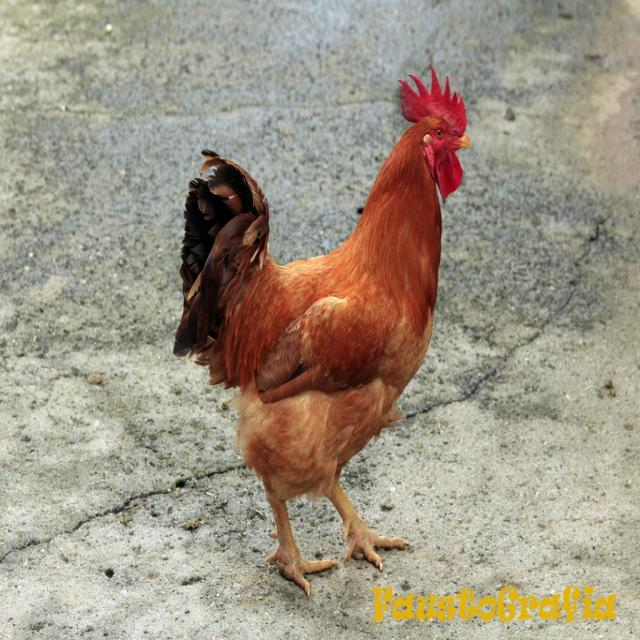Chicken: (172, 61, 470, 596)
